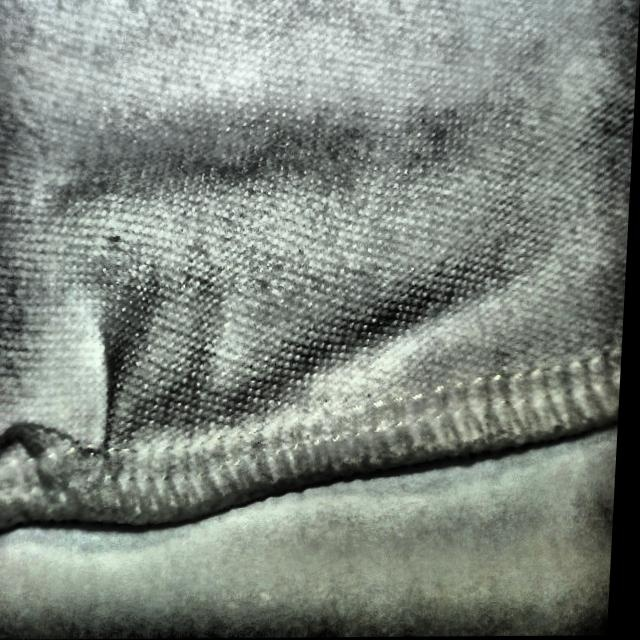seam: (0, 331, 162, 545)
